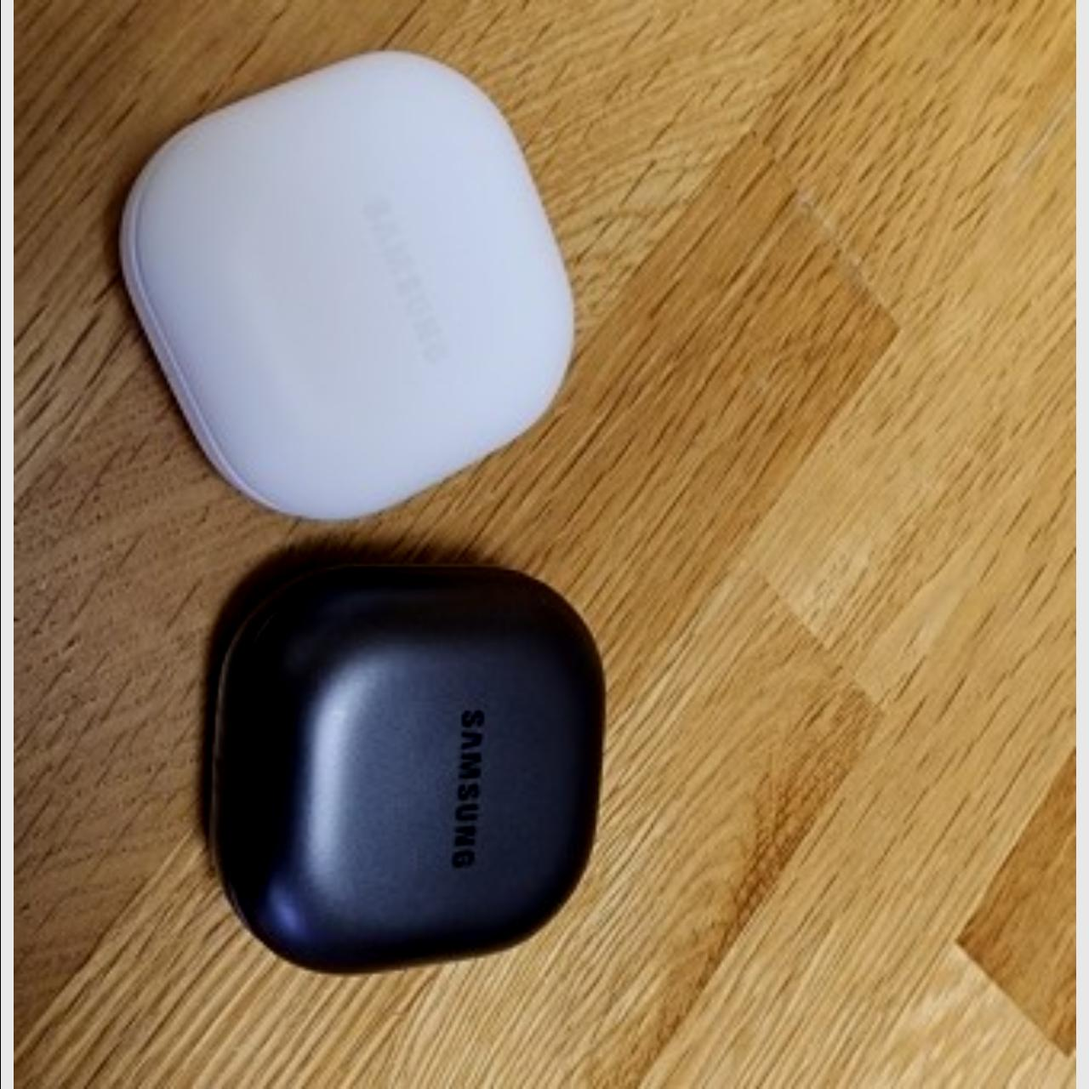Buds: (75, 46, 582, 530), (194, 553, 610, 987)
